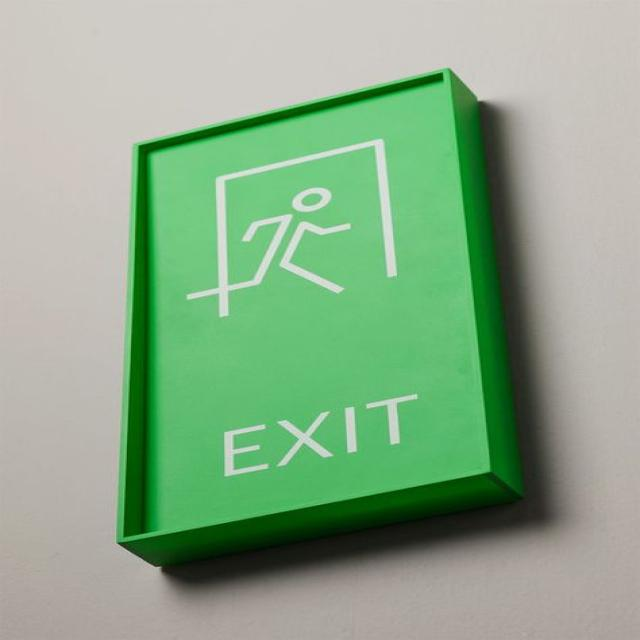exit_sign: (117, 116, 485, 537)
